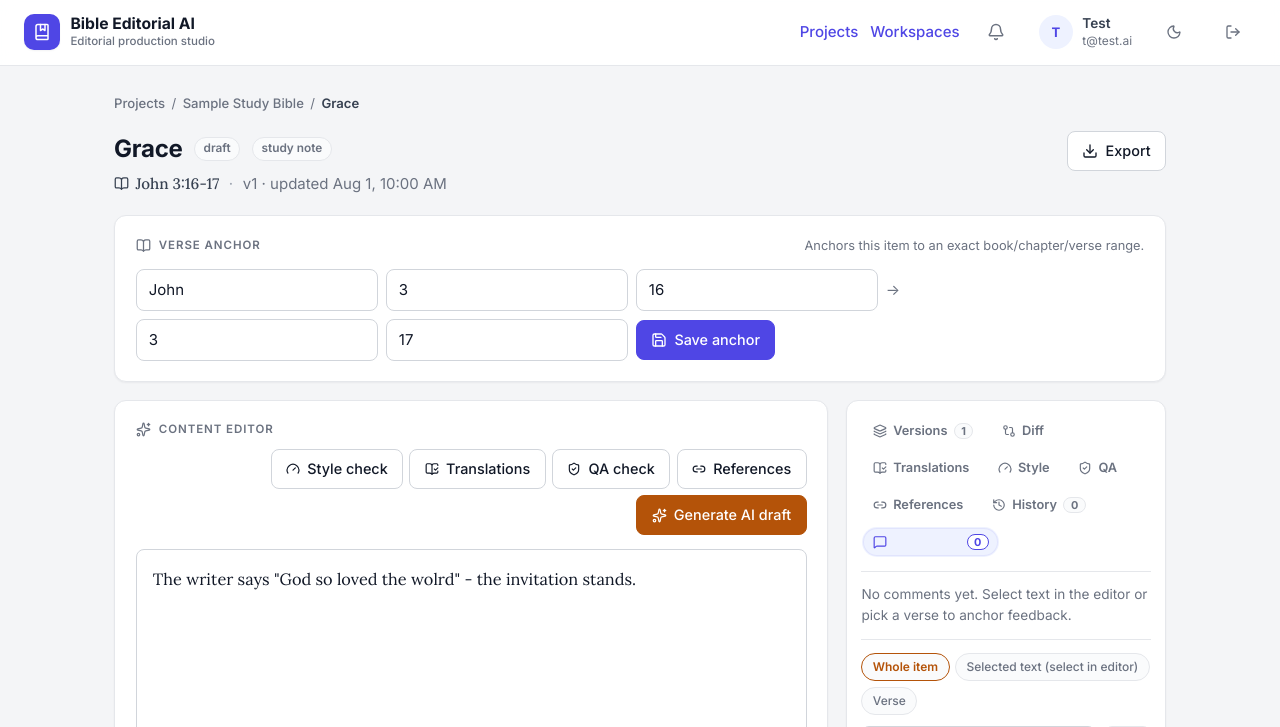
Test case: Editor Scripture QA check › runs the QA check and shows expected vs actual
The width and height of the screenshot is (1280, 727).
Check: the heading "Grace" is shown, box [114,131,183,167]
Click the button "QA check" at [611, 469], box [552,449,670,489]
(page scrolled)
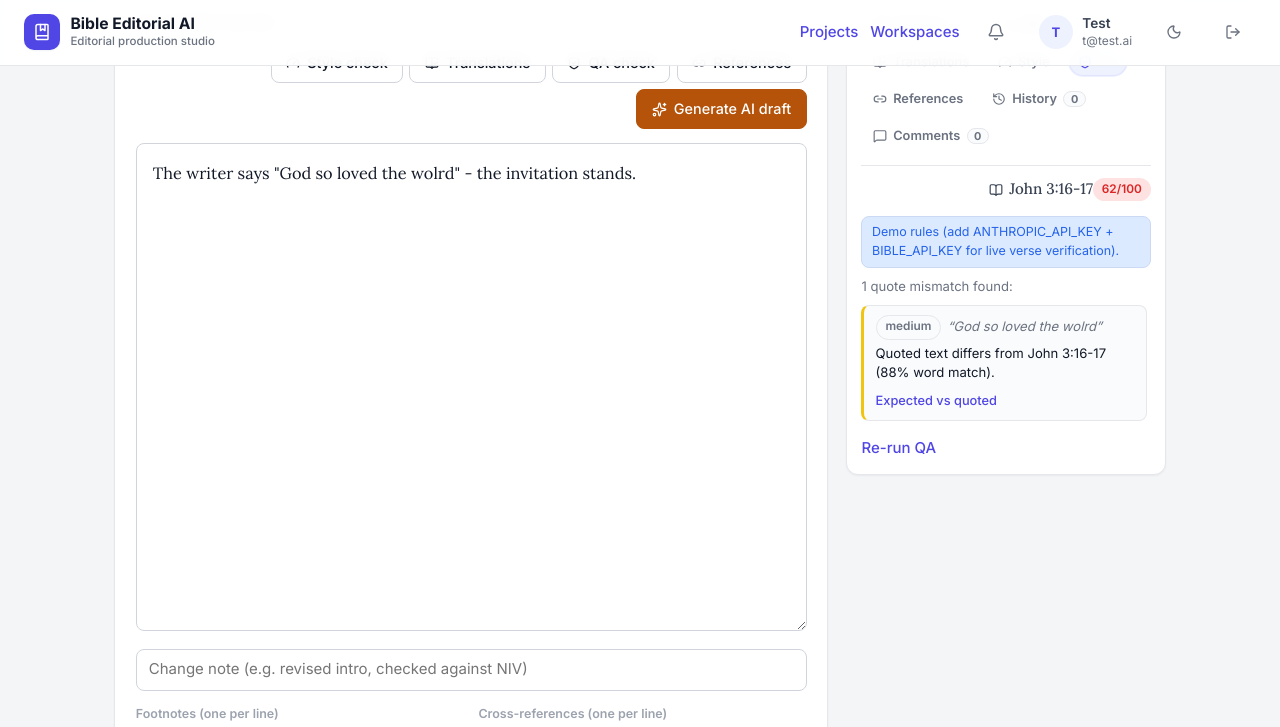
Check: the text "62/100" is shown, box [1102,181,1142,199]
Check: the text "Quoted text differs from John 3:16-17 (88% word match)." is shown, box [876,344,1134,383]
Click the heading "Expected vs quoted" at [936, 400], box [876,391,997,410]
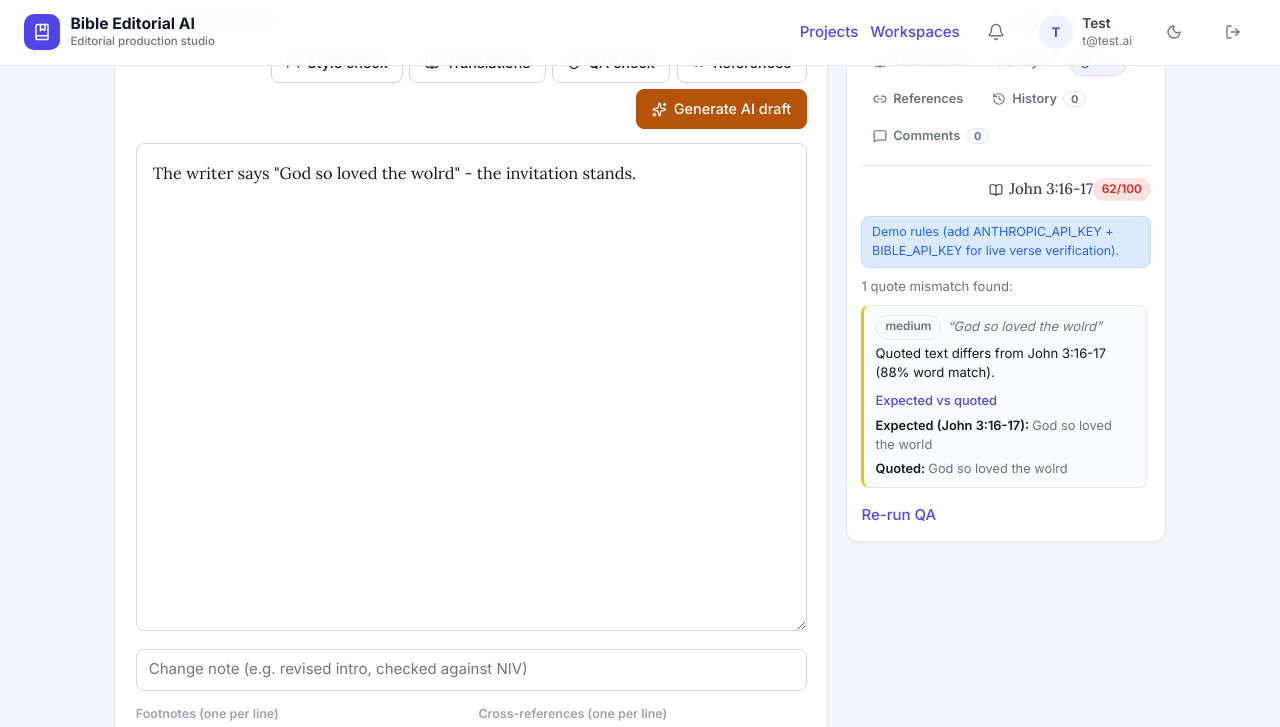
Check: the text "“God so loved the wolrd”" is shown, box [948,317,1102,337]
Check: the text "God so loved the world" is shown, box [876,418,1112,452]
